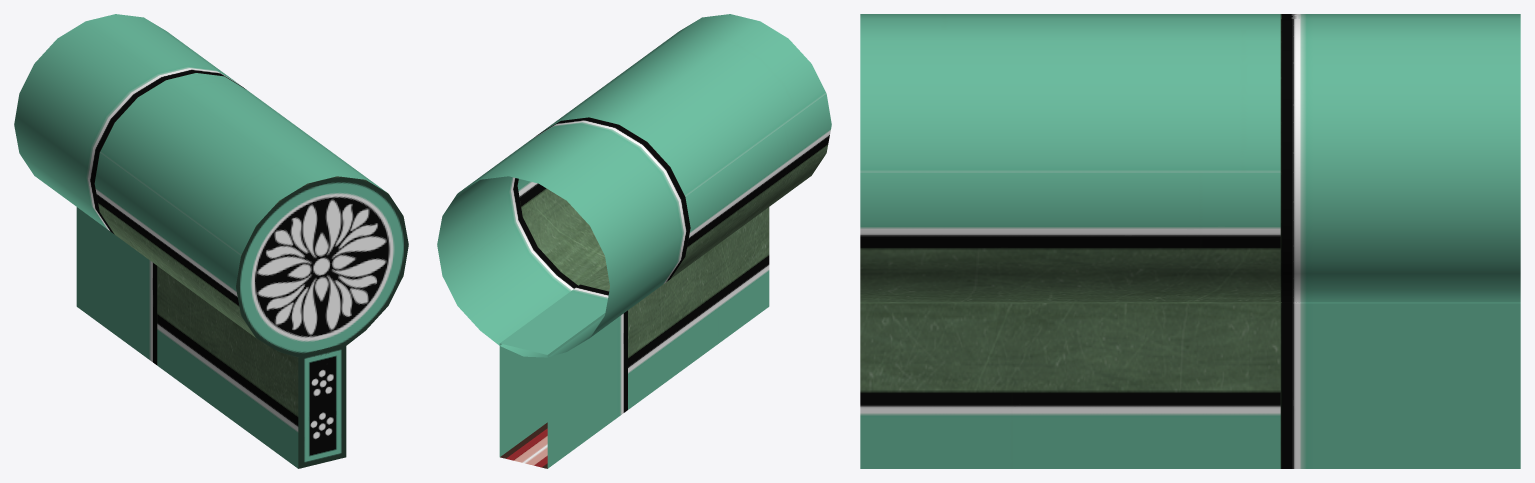
Rendered from SM_Beam01E.fbx.
The picture shows the model from 3 angles, left to right: view 1: azimuth 30°, elevation 25°; view 2: azimuth 150°, elevation 25°; view 3: azimuth 270°, elevation 25°; orthographic projection. The views are drawn at different scales.
Parts seen in each view (by area): view 1: SM_Beam01E; view 2: SM_Beam01E; view 3: SM_Beam01E.
Boxes of the visible parts, box(x1,y1,x2,y2) form: SM_Beam01E: box(14, 14, 408, 468); SM_Beam01E: box(437, 14, 831, 468); SM_Beam01E: box(860, 14, 1520, 468).
Bounding box in the file's own units: 28.53 × 63.31 × 44.62.
1 material, 1 textured.
